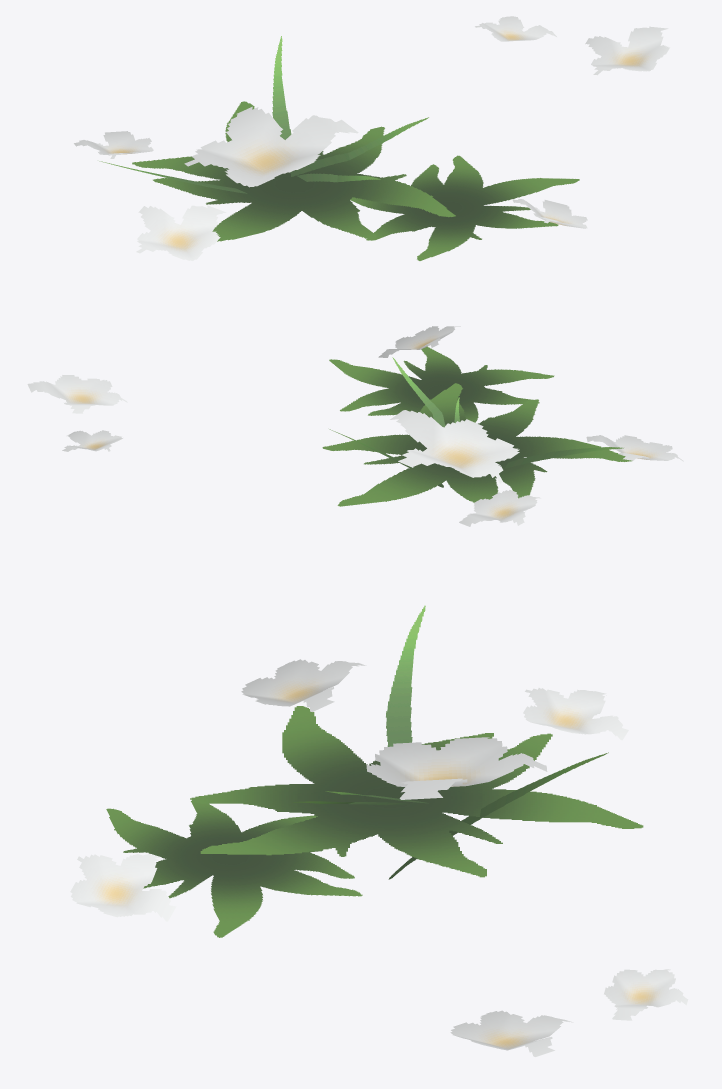
File: plant_05.glb
3 renders of one model, top to bottom at view 1: azimuth 30°, elevation 25°; view 2: azimuth 150°, elevation 25°; view 3: azimuth 270°, elevation 25°, orthographic. The views are drawn at different scales.
Parts seen in each view (by area): view 1: plant_05; view 2: plant_05; view 3: plant_05.
Boxes of the visible parts, x1,y1,x2,y2 form: plant_05: [74, 16, 669, 260]; plant_05: [27, 326, 683, 526]; plant_05: [70, 605, 688, 1056].
Size of the model in its own units: 0.7884 by 0.1464 by 0.5364.
Materials: 1 (1 with a texture image).
